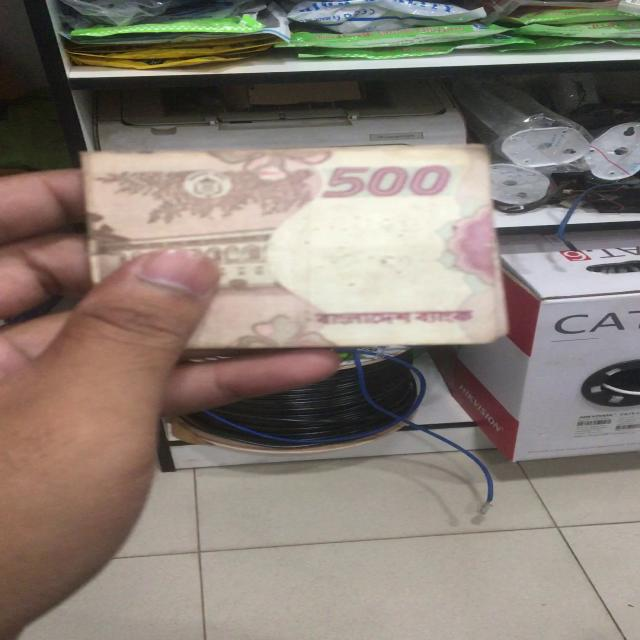Taka: (74, 144, 499, 348)
